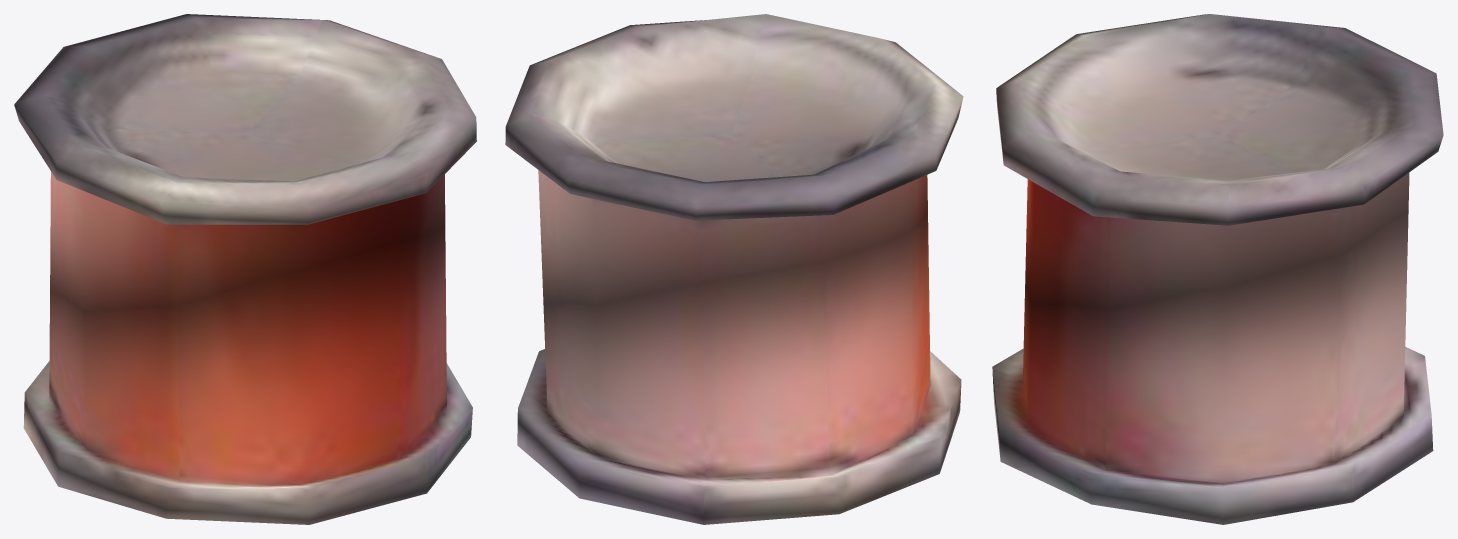
The model's file is canned-tomatoes.glb.
3 renders of one model, left to right at view 1: azimuth 30°, elevation 25°; view 2: azimuth 150°, elevation 25°; view 3: azimuth 270°, elevation 25°, orthographic.
Visible parts, largest first — view 1: Canned Tomatoes; view 2: Canned Tomatoes; view 3: Canned Tomatoes.
Part boxes in pixels (x1,y1,x2,y2): Canned Tomatoes: (14, 14, 476, 524); Canned Tomatoes: (505, 14, 963, 524); Canned Tomatoes: (992, 14, 1443, 524).
Bounding box in the file's own units: 1.61 × 1.3 × 1.6.
1 material, 1 textured.
